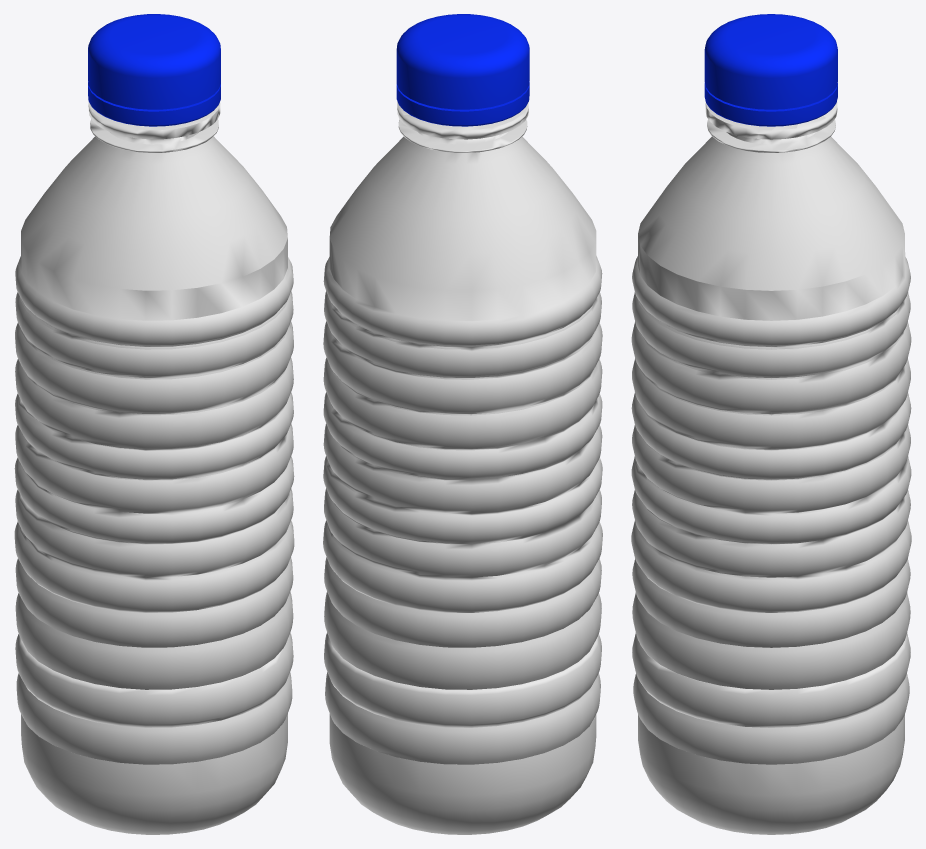
The model's file is waterbottle-v1.glb.
3 views of the same model, side by side, from view 1: azimuth 30°, elevation 25°; view 2: azimuth 150°, elevation 25°; view 3: azimuth 270°, elevation 25° (orthographic).
Visible parts, largest first — view 1: Object_4, Object_6, Object_8; view 2: Object_4, Object_6, Object_8; view 3: Object_4, Object_6, Object_8.
Boxes of the visible parts, x1,y1,x2,y2 form: Object_4: (14, 102, 294, 834); Object_6: (88, 14, 220, 126); Object_8: (20, 297, 286, 480); Object_4: (323, 101, 602, 834); Object_6: (396, 14, 529, 126); Object_8: (330, 298, 596, 543); Object_4: (631, 102, 911, 834); Object_6: (704, 14, 837, 126); Object_8: (638, 300, 904, 543).
Bounding box in the file's own units: 1.45 × 4.36 × 1.45.
